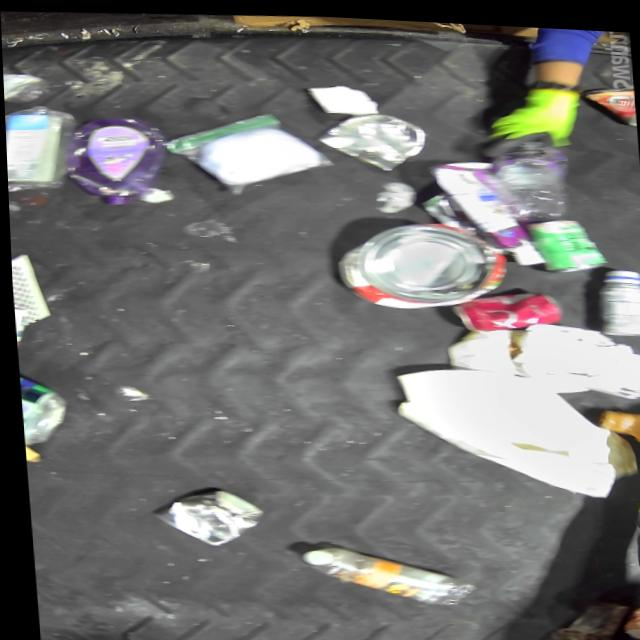can: (328, 211, 510, 311), (311, 103, 429, 172), (144, 482, 261, 548), (443, 281, 562, 330), (521, 208, 609, 271), (576, 77, 635, 121)
milk_jug: (384, 353, 638, 500)
plastic_bottle: (294, 535, 472, 607), (481, 130, 575, 220)
